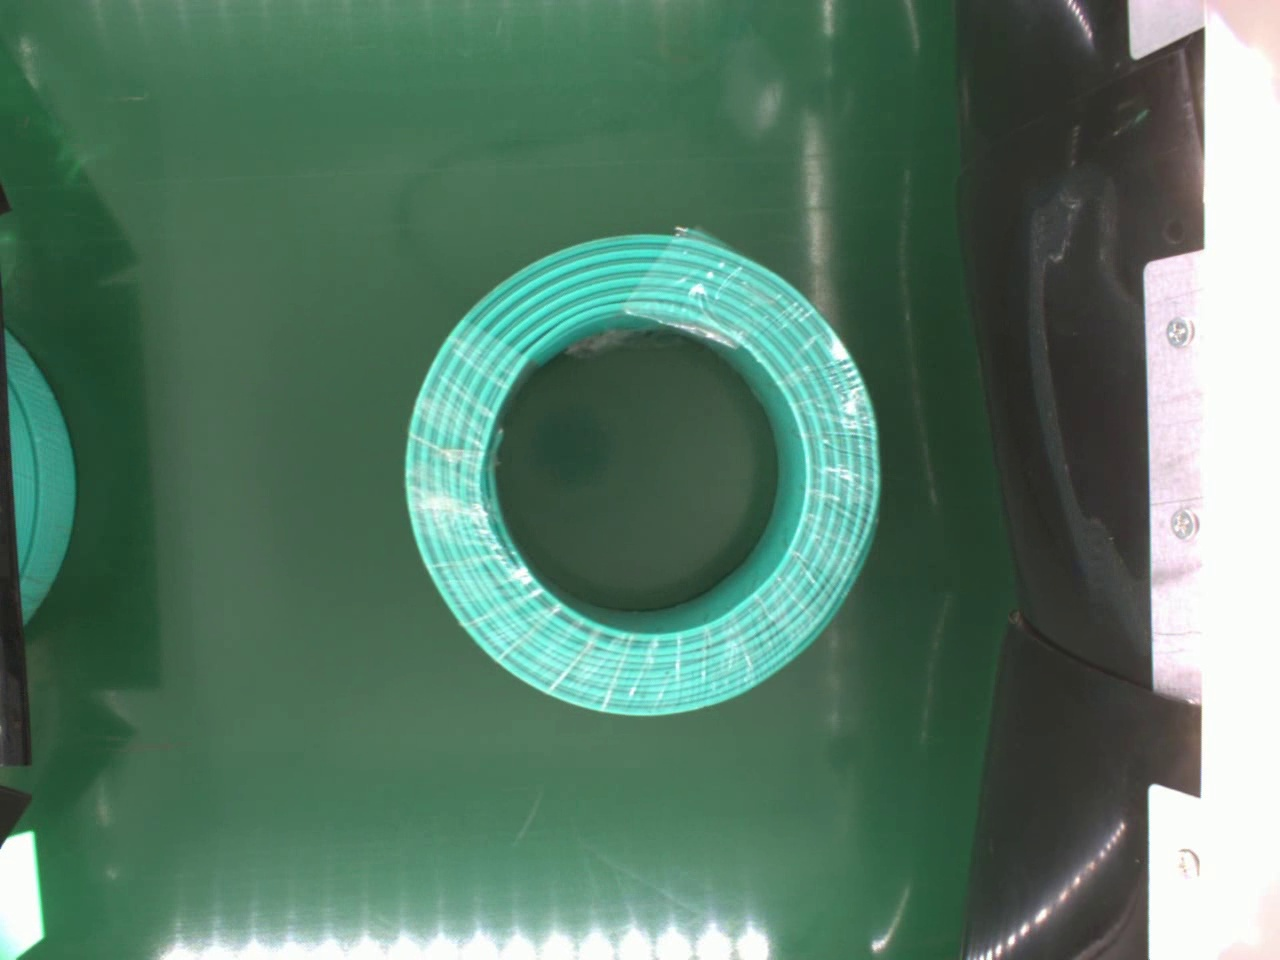green: (389, 228, 881, 723)
